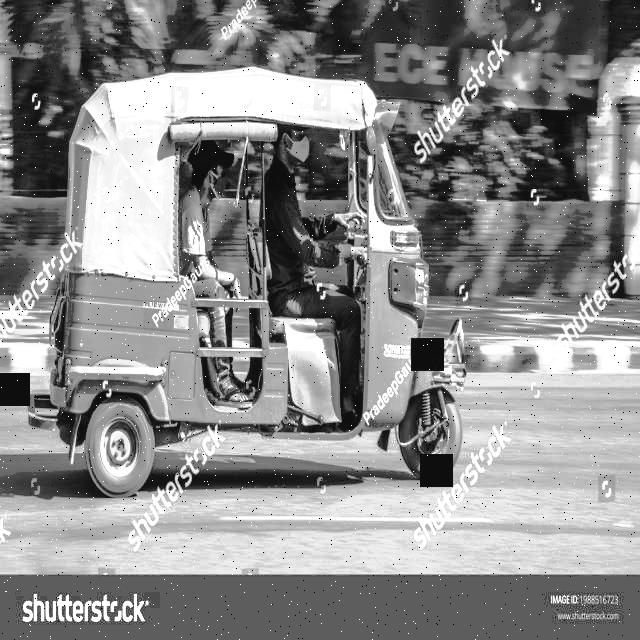Auto-Rickshaw: (62, 66, 468, 478)
